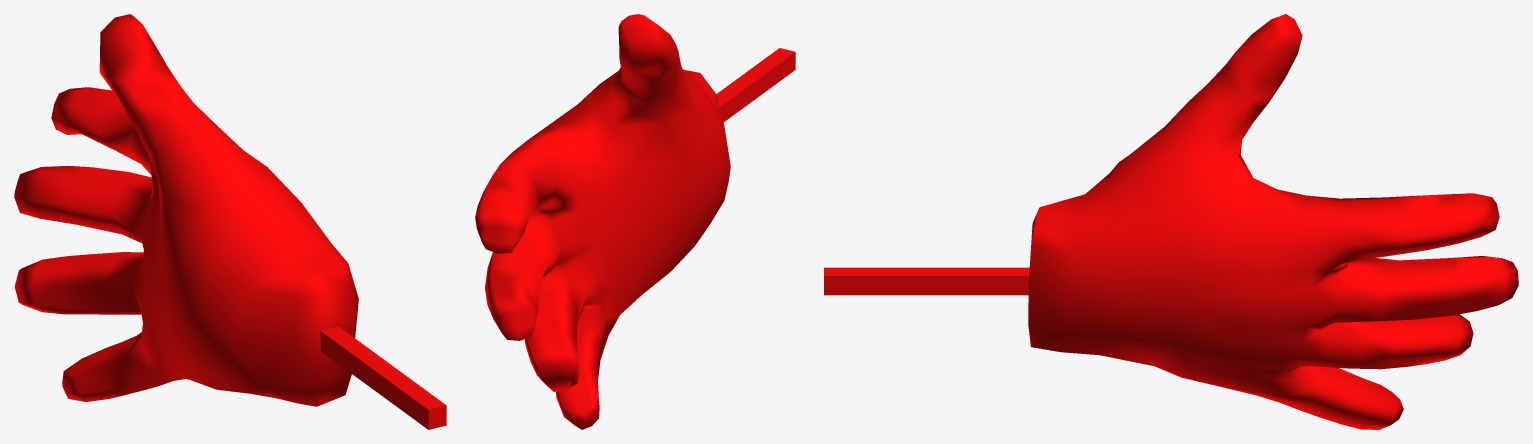
File: Slap_7.obj
3 renders of one model, left to right at view 1: azimuth 30°, elevation 25°; view 2: azimuth 150°, elevation 25°; view 3: azimuth 270°, elevation 25°, orthographic. The views are drawn at different scales.
Visible parts, largest first — view 1: Hand1, Handle1; view 2: Hand1, Handle1; view 3: Hand1, Handle1.
Part boxes in pixels (x1,y1,x2,y2): Hand1: (14, 14, 358, 406); Handle1: (320, 326, 446, 429); Hand1: (475, 14, 730, 429); Handle1: (716, 48, 795, 122); Hand1: (1028, 14, 1518, 429); Handle1: (824, 267, 1029, 295).
Size of the model in its own units: 1.02 by 2.47 by 3.82.
